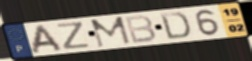6: (194, 9, 221, 37)
A: (31, 24, 65, 55)
B: (123, 14, 158, 45)
D: (158, 11, 192, 41)
M: (89, 15, 133, 49)
Z: (55, 21, 93, 51)
